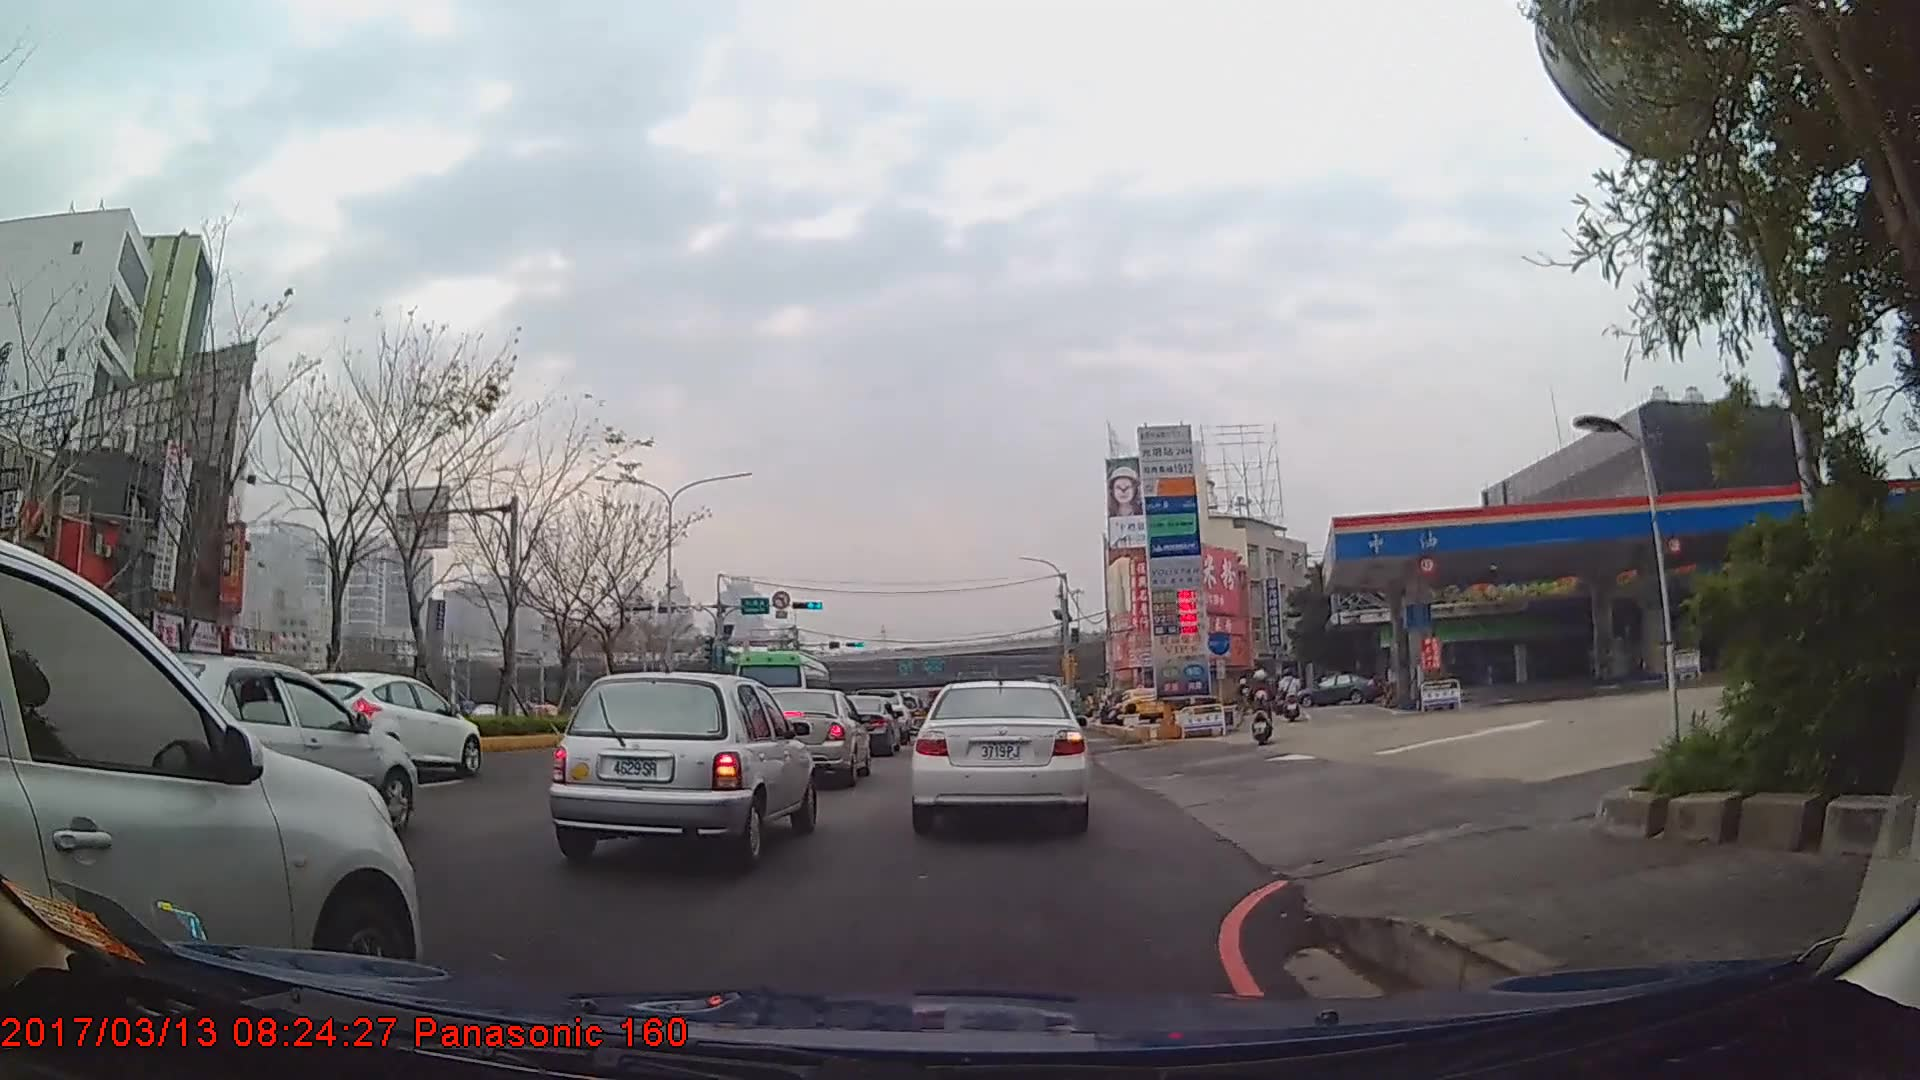rider: (1247, 671, 1277, 747), (1280, 667, 1303, 724)
vehicle: (0, 540, 425, 1018), (97, 656, 419, 834), (548, 669, 814, 871), (912, 677, 1089, 835), (280, 669, 481, 777), (745, 686, 869, 787), (730, 648, 830, 733), (825, 691, 902, 758), (1294, 671, 1379, 705), (1114, 686, 1166, 722)
